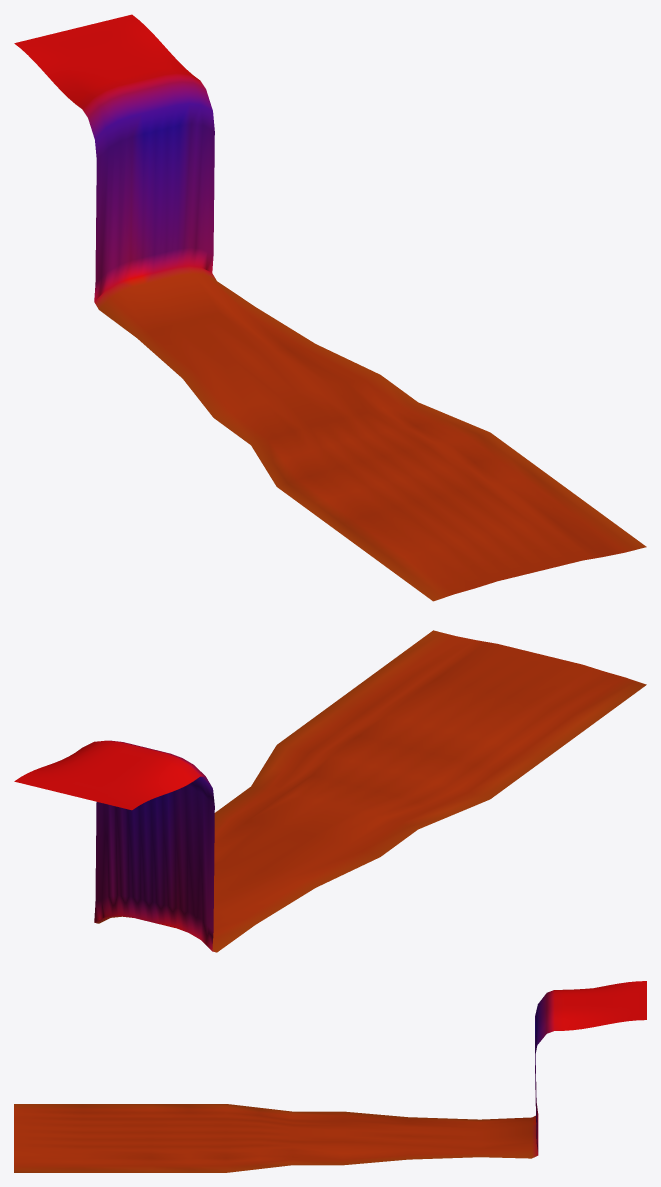
Rendered from MywaterFallDD.fbx.
3 renders of one model, top to bottom at view 1: azimuth 30°, elevation 25°; view 2: azimuth 150°, elevation 25°; view 3: azimuth 270°, elevation 25°, orthographic. The views are drawn at different scales.
Visible parts, largest first — view 1: pPlane1; view 2: pPlane1; view 3: pPlane1.
Boxes of the visible parts, <box> form: pPlane1: <box>14,14,646,601</box>; pPlane1: <box>14,630,646,952</box>; pPlane1: <box>14,981,646,1172</box>.
Size of the model in its own units: 1.81 by 1.66 by 6.85.
